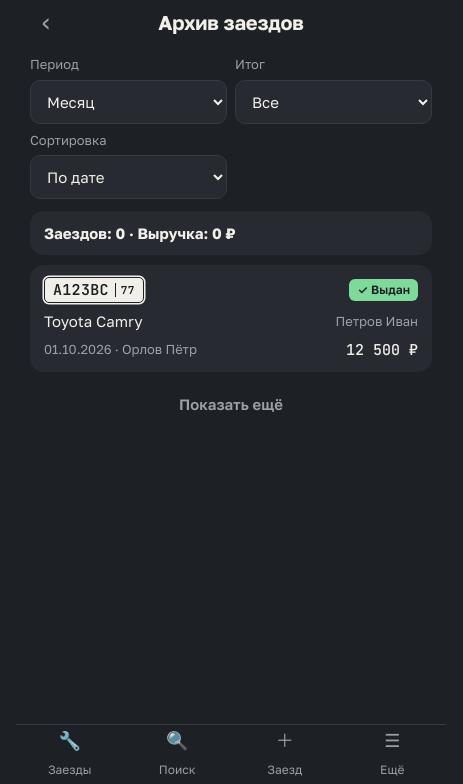
Test: archive loads more pages
Expected: the text "✓ Выдан" is shown, [349,279,418,302]
Click the button "Показать ещё": (231, 404) [30,382,432,426]
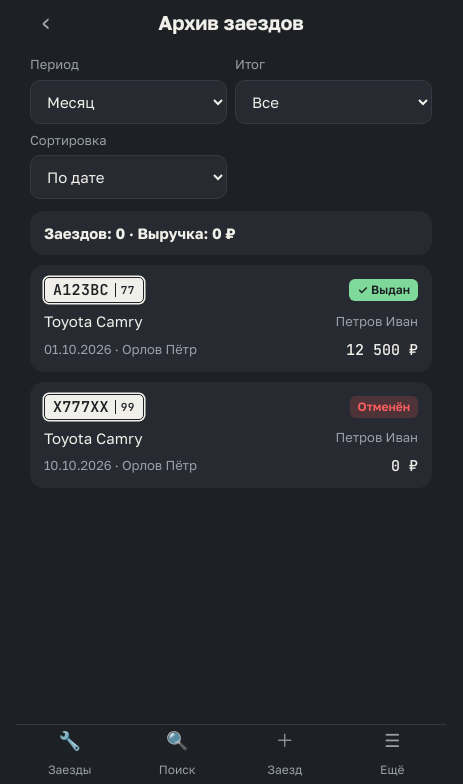
Expected: the text "✓ Выдан" is shown, [349,279,418,302]
Expected: the text "Отменён" is shown, [350,396,418,418]
Expected: the button "Показать ещё" is gone
